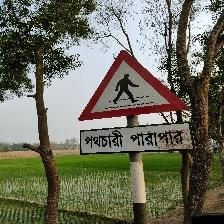Pedestrian-crossing: (77, 49, 193, 154)
